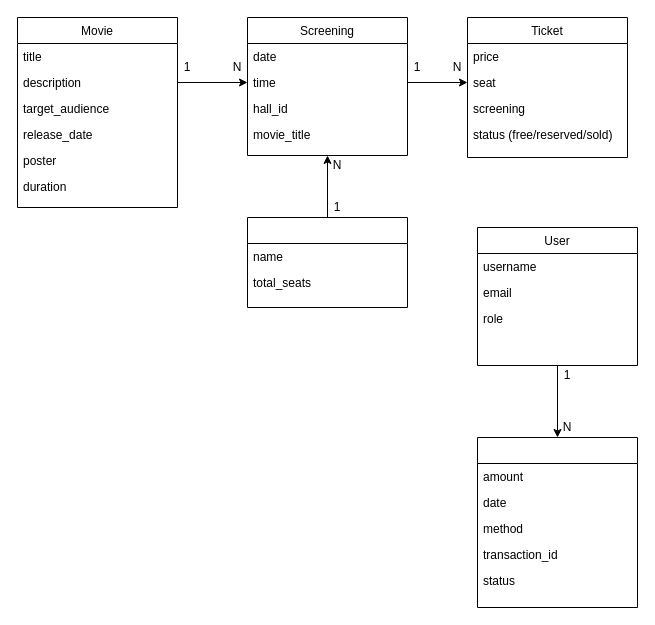
Some shapes in this 655 by 625 pixel diagram are drawn without their labels. The shapes that lost their labels are listed below. From the top down, each one's box as (x1, y1, x2, y2) in pixels, then its label:
(246, 216, 408, 308): Hall
(476, 436, 638, 608): Payment
